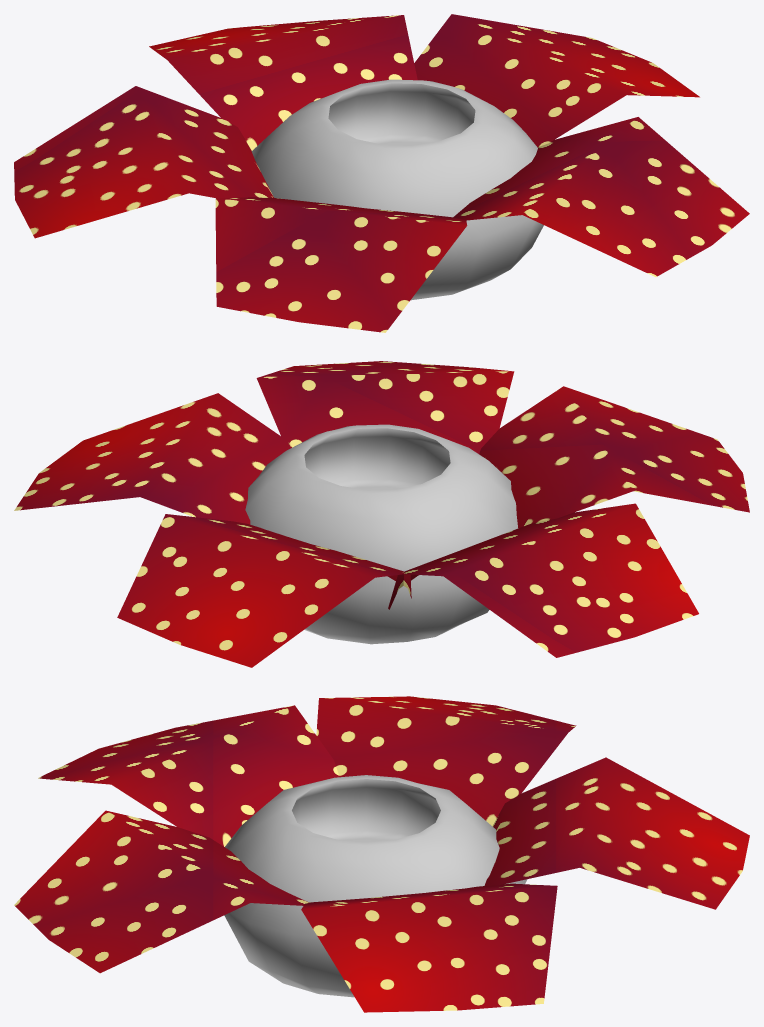
File: Raflesia_Flower.fbx
The picture shows the model from 3 angles, top to bottom: view 1: azimuth 30°, elevation 25°; view 2: azimuth 150°, elevation 25°; view 3: azimuth 270°, elevation 25°; orthographic projection.
Visible parts, largest first — view 1: Raflesia_flower; view 2: Raflesia_flower; view 3: Raflesia_flower.
Part boxes in pixels (x1,y1,x2,y2): Raflesia_flower: (14, 14, 749, 332); Raflesia_flower: (14, 361, 749, 667); Raflesia_flower: (14, 696, 749, 1012).
Bounding box in the file's own units: 9.72 × 2.21 × 9.53.
